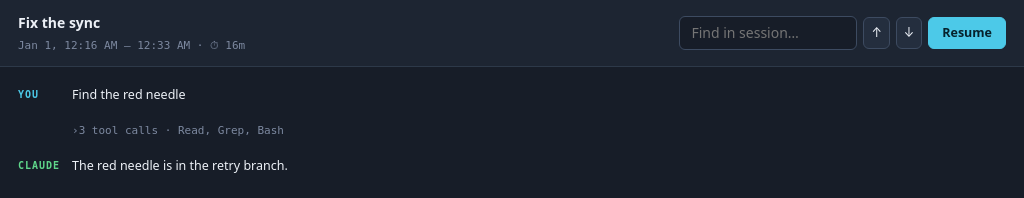
Scenario: TranscriptViewer resume action › finds messages within the open session and navigates their matches
The image size is (1024, 198).
Type "needle" into the search field with class "ix-transcript__search-input" at x=768, y=33, box x1=679 y1=16 x2=857 y2=50
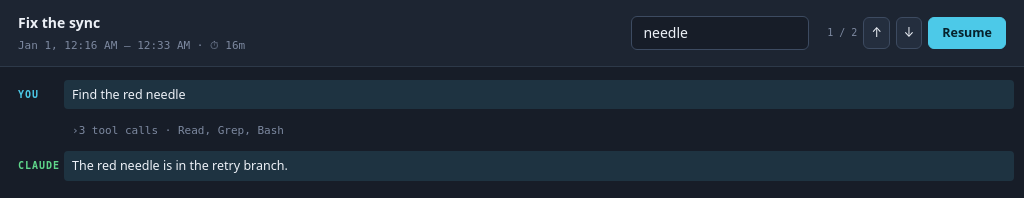
Expected: the number of elements with class "ix-transcript__entry--match" is 2, x1=18 y1=85 x2=1006 y2=104; x1=18 y1=156 x2=1006 y2=176
Now the text with class "ix-transcript__match-count" reads "1 / 2", box x1=827 y1=27 x2=857 y2=38
Click the button named "Next matching message" at x=909, y=33, box x1=896 y1=17 x2=922 y2=49
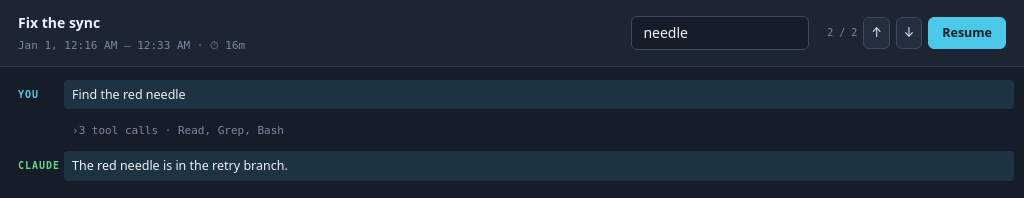
Now the text with class "ix-transcript__match-count" reads "2 / 2", box x1=827 y1=27 x2=857 y2=38
